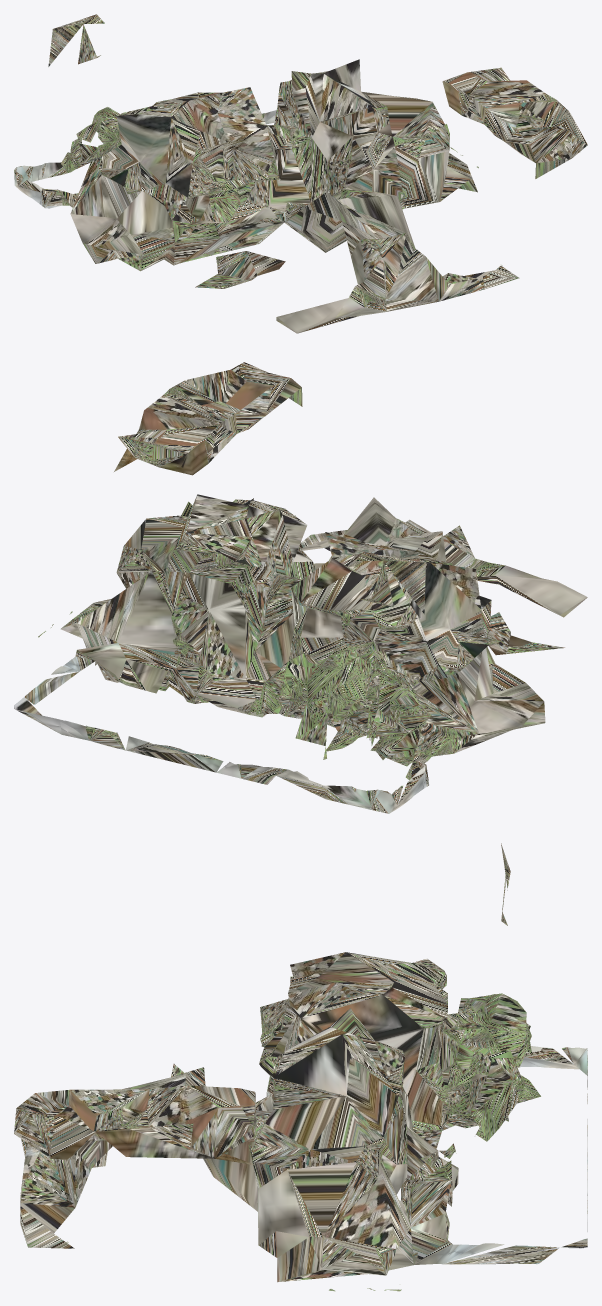
File: bq_canal_house.lod2.glb
3 renders of one model, top to bottom at view 1: azimuth 30°, elevation 25°; view 2: azimuth 150°, elevation 25°; view 3: azimuth 270°, elevation 25°, orthographic. The views are drawn at different scales.
Bounding box in the file's own units: 1.87 × 0.8476 × 1.9.
Materials: 1 (1 with a texture image).
